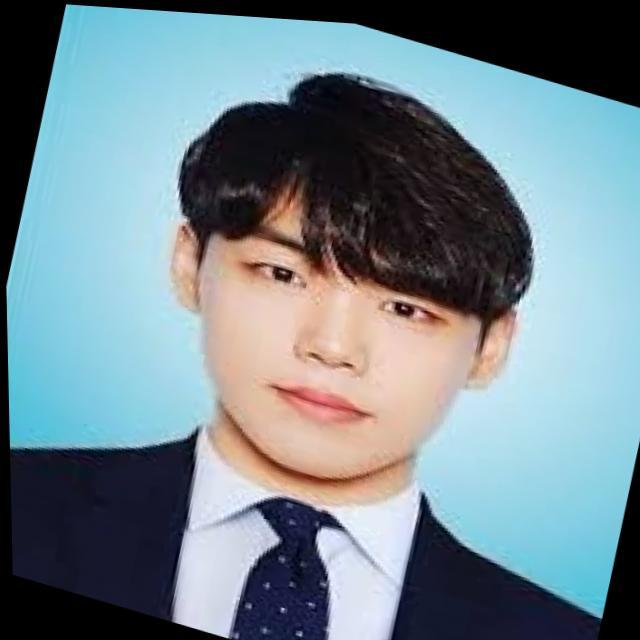Nonhelmet: (162, 67, 539, 484)
